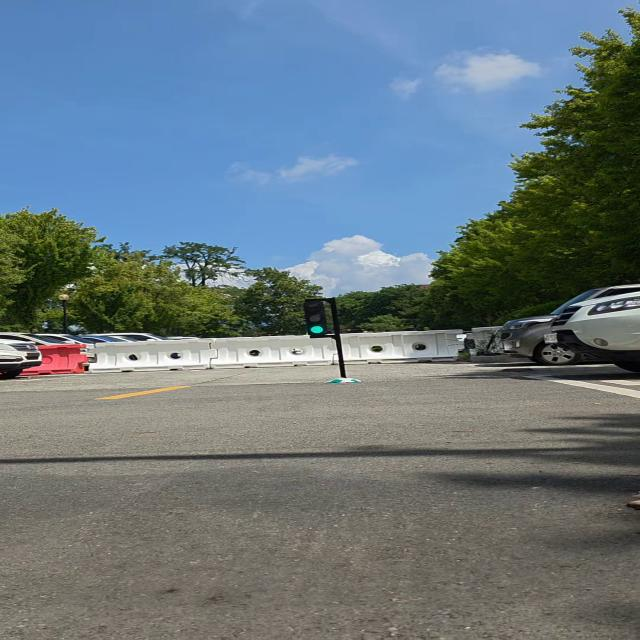green: (299, 298, 338, 338)
